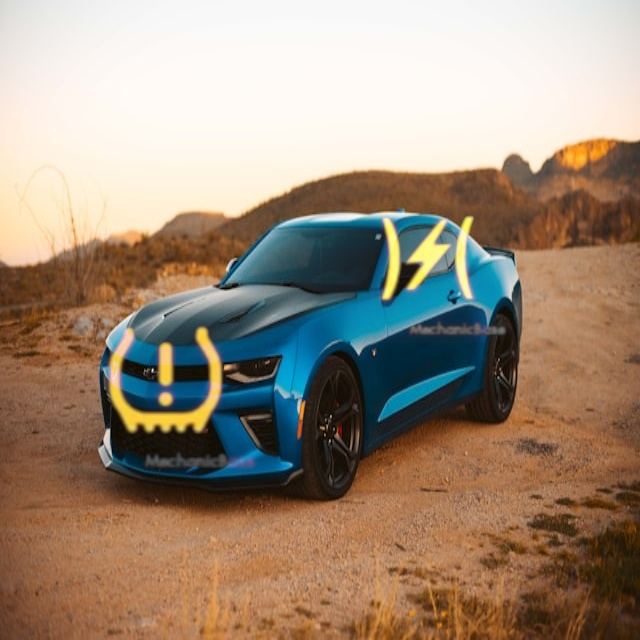symbol: (70, 285, 262, 477), (344, 175, 512, 343)
